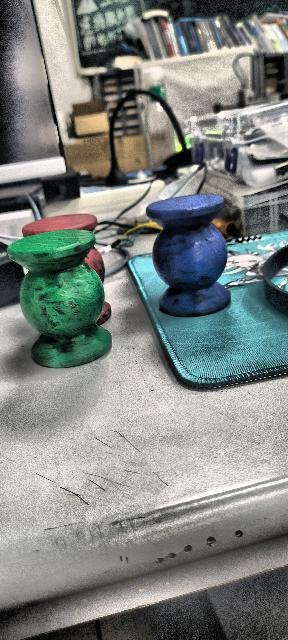blue: (146, 193, 230, 317)
green: (8, 226, 114, 370)
red: (22, 213, 114, 325)
